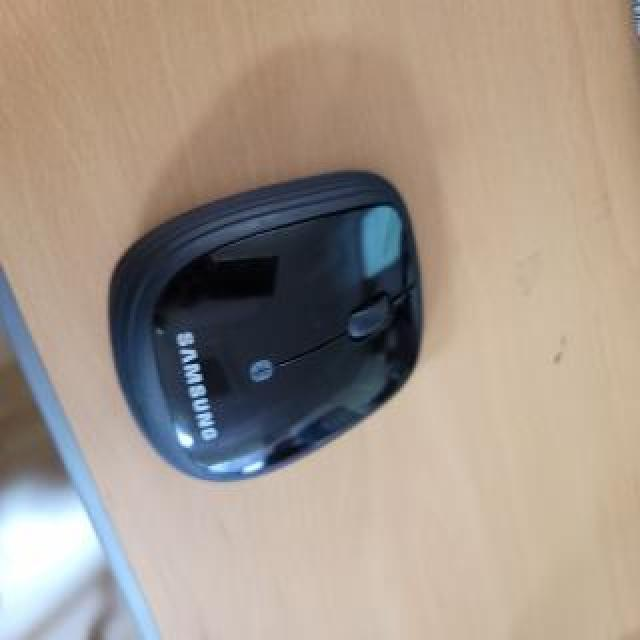mouse: (113, 143, 490, 508)
